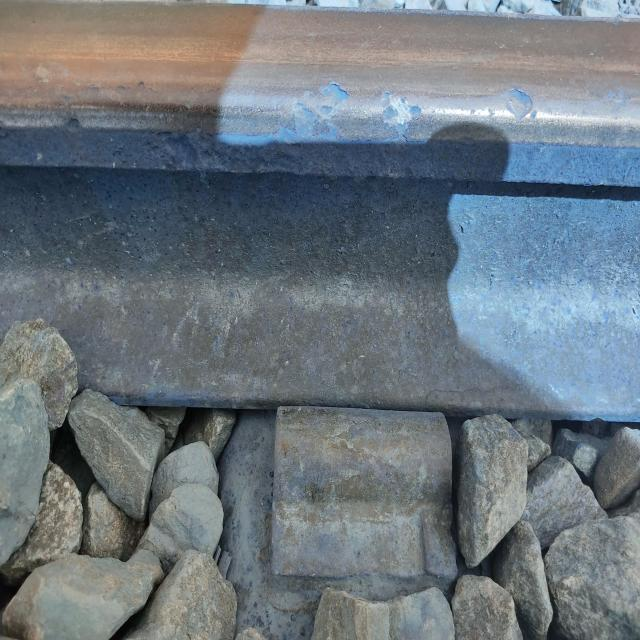Missing Fastener: (238, 360, 484, 612)
